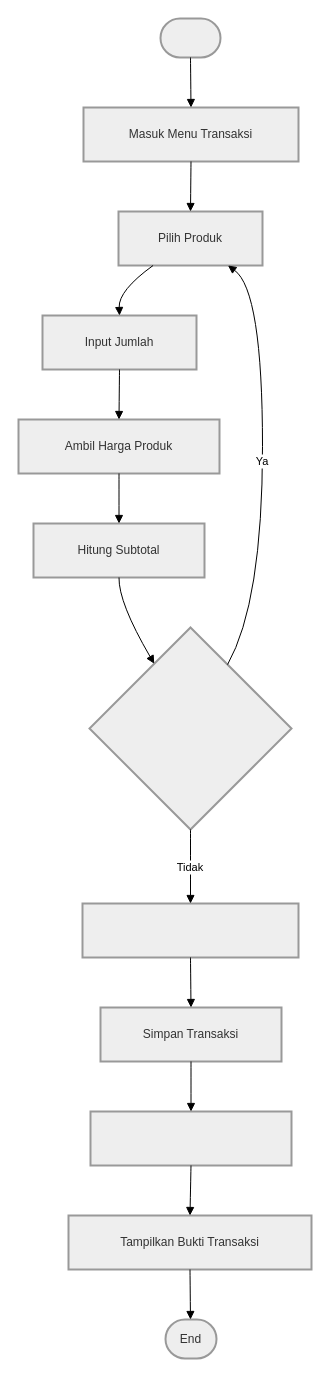
The diagram is 329 pixels wide and 1376 high, and some of its shapes have lost their labels. The shapes that lost their labels are listed below. From the top down, each one's centre as x and y in pixels, then its label:
(x=190, y=37): Start
(x=190, y=728): Tambah Produk Lagi?
(x=190, y=930): Hitung Total Transaksi
(x=190, y=1138): Update Stok Produk
